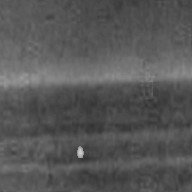Target: (76, 145, 85, 160)
